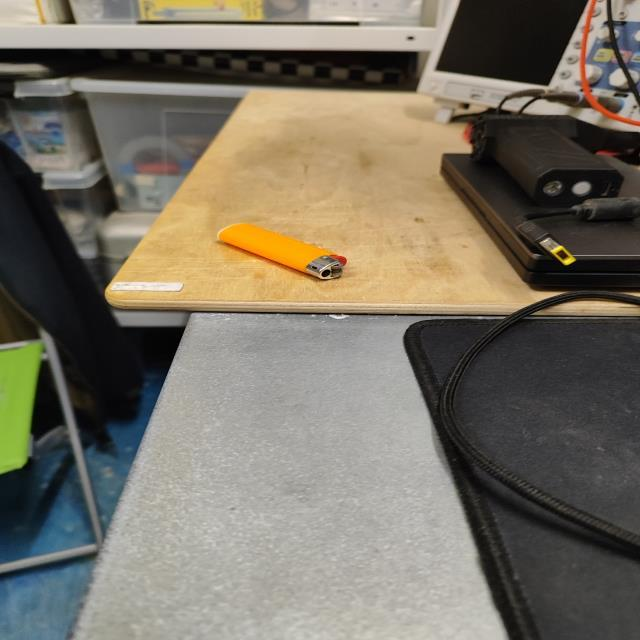lighter: (218, 224, 346, 280)
